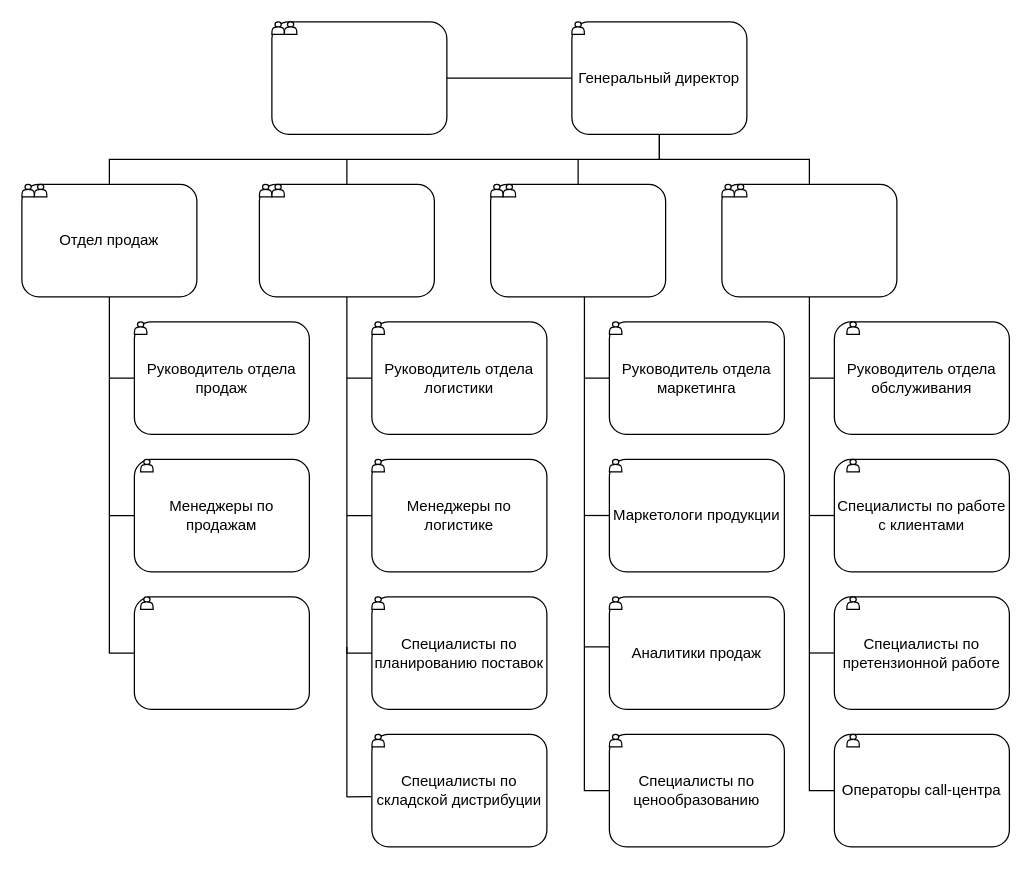
This 1031x869 diagram has some shape labels left out. The centre of each missing label's shape, as x and y in pixels:
ООО "Дистрибьютор экспресс": [359,77]
Отдел дистрибуции и логистики: [346,240]
Отдел маркетинга и аналитики: [577,240]
Отдел обслуживания клиентов: [809,240]
Специалисты по поддержке продаж: [221,652]
